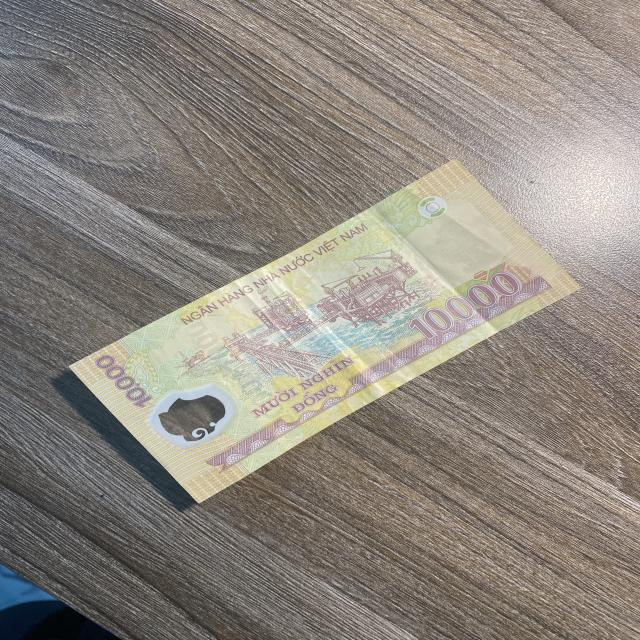10 000 VND: (51, 142, 584, 516)
